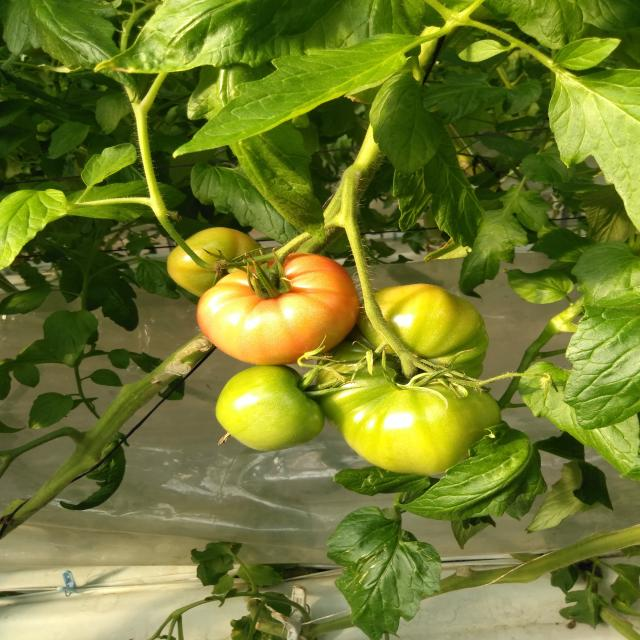unripe tomato: (199, 366, 519, 471)
